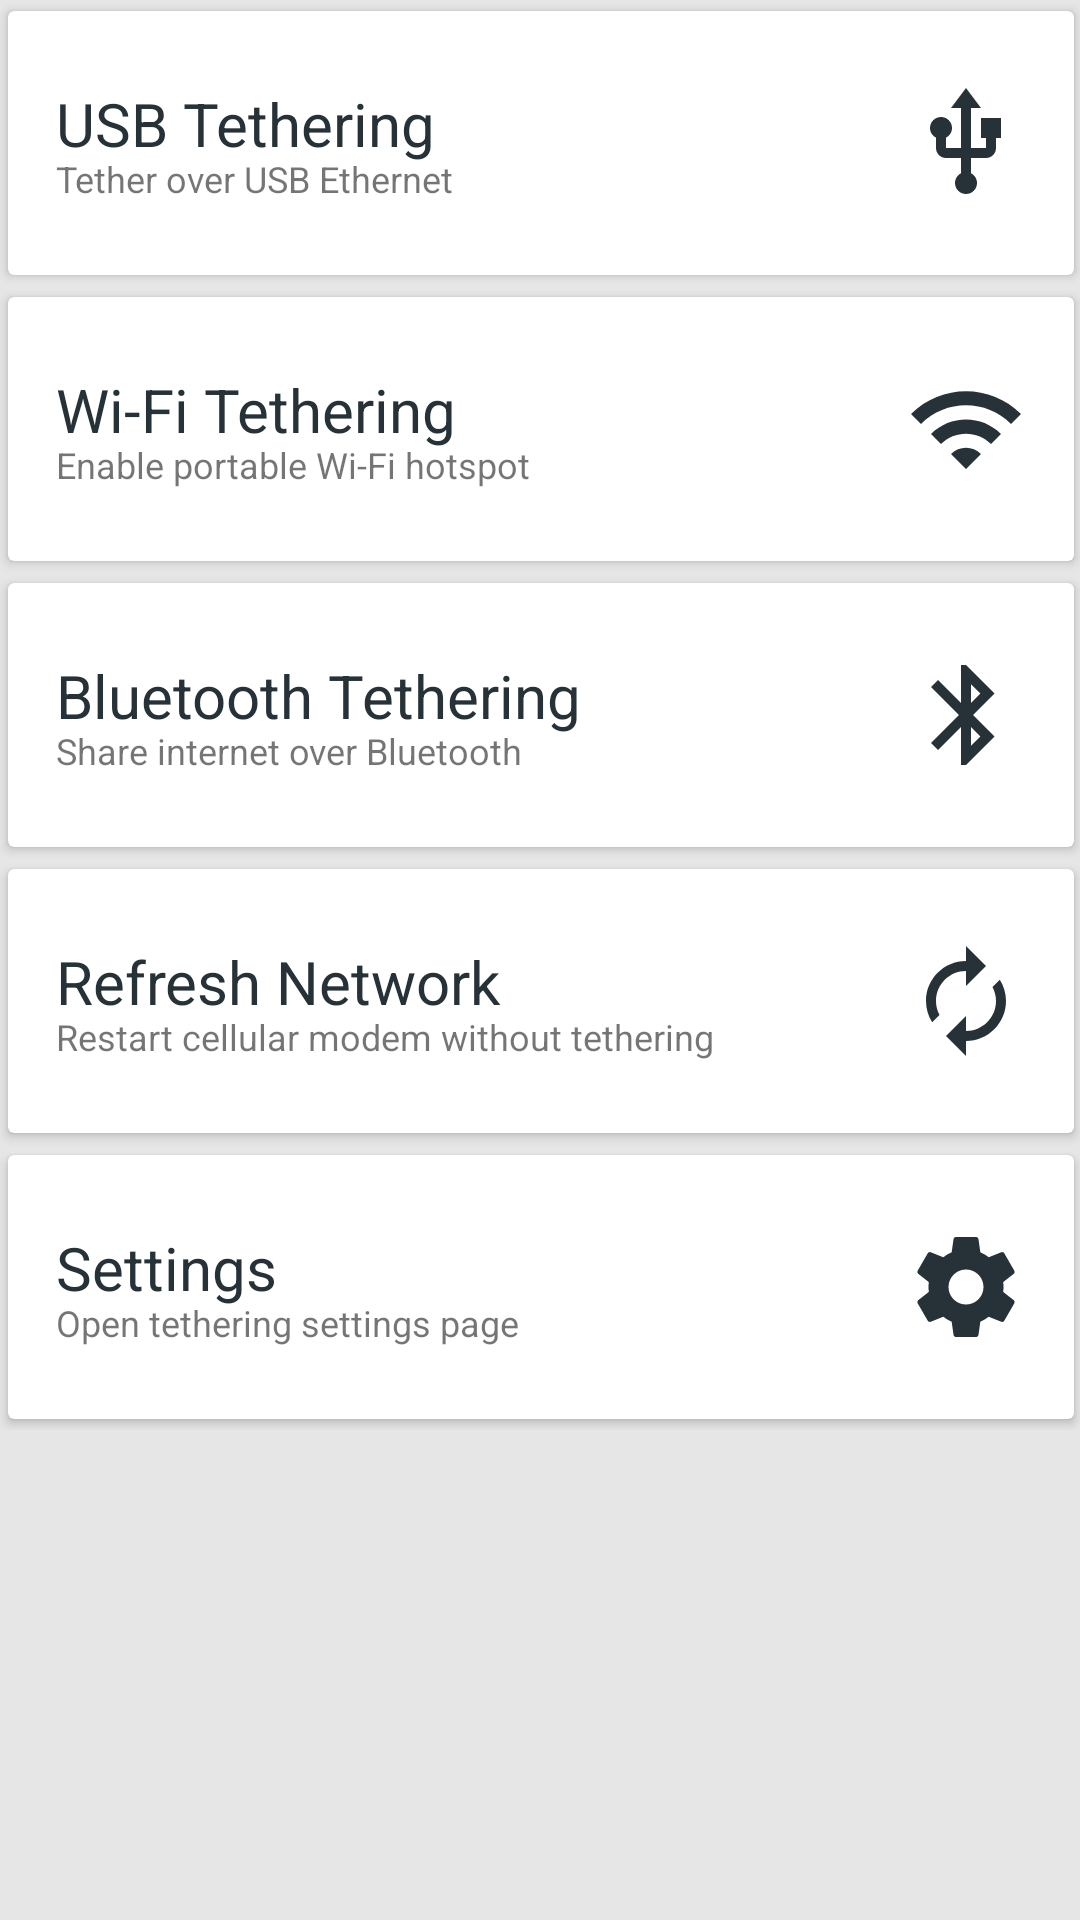

Icon click points for this 1080x1920 phone screenshot, format (x=x, y=y):
refresh: (x=966, y=1001)
settings: (x=966, y=1287)
usb: (x=965, y=141)
wifi: (x=966, y=430)
